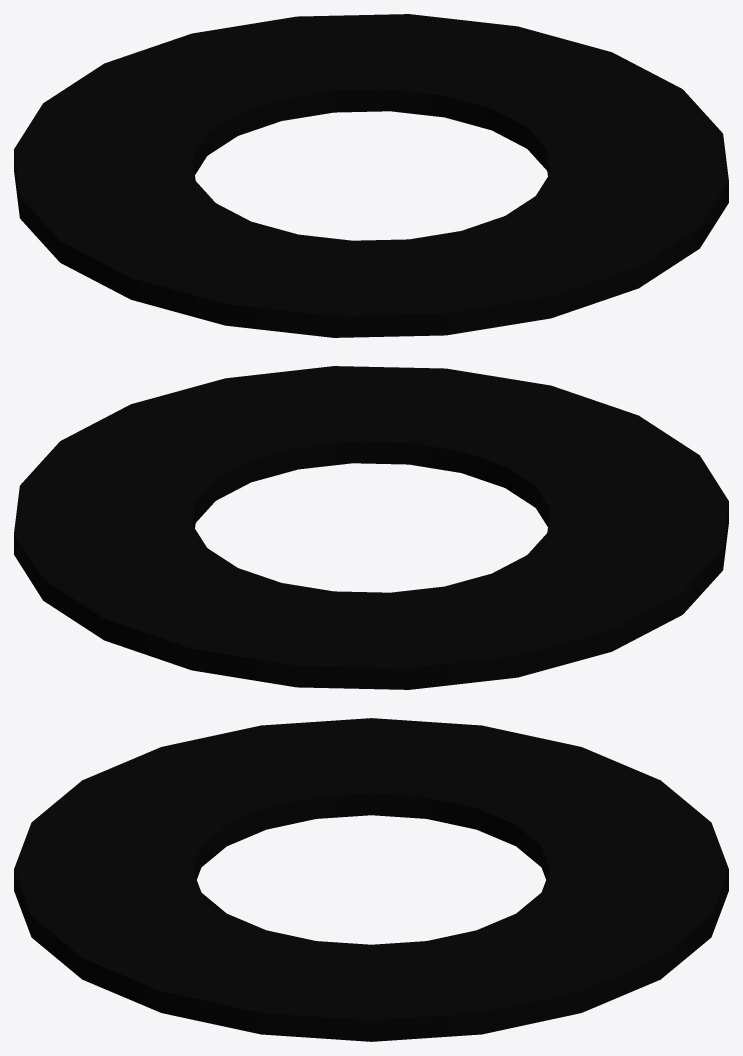
Rendered from marker.obj.
The picture shows the model from 3 angles, top to bottom: view 1: azimuth 30°, elevation 25°; view 2: azimuth 150°, elevation 25°; view 3: azimuth 270°, elevation 25°; orthographic projection.
Parts seen in each view (by area): view 1: pPipe1; view 2: pPipe1; view 3: pPipe1.
Part boxes in pixels (box(x1,y1,x2,y2)): pPipe1: box(14, 14, 728, 337); pPipe1: box(14, 366, 728, 689); pPipe1: box(14, 718, 728, 1041).
Size of the model in its own units: 0.3 by 0.01 by 0.3.
